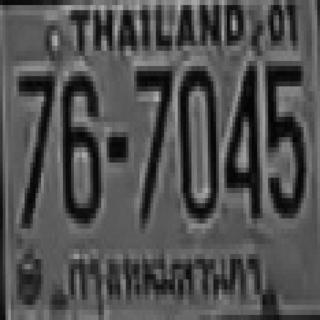N00: (178, 61, 216, 218)
N04: (224, 61, 260, 214)
N05: (262, 61, 304, 214)
N06: (60, 71, 98, 218)
N07: (134, 64, 172, 221), (16, 68, 52, 221), (134, 63, 172, 206)
P04: (64, 249, 266, 307)
